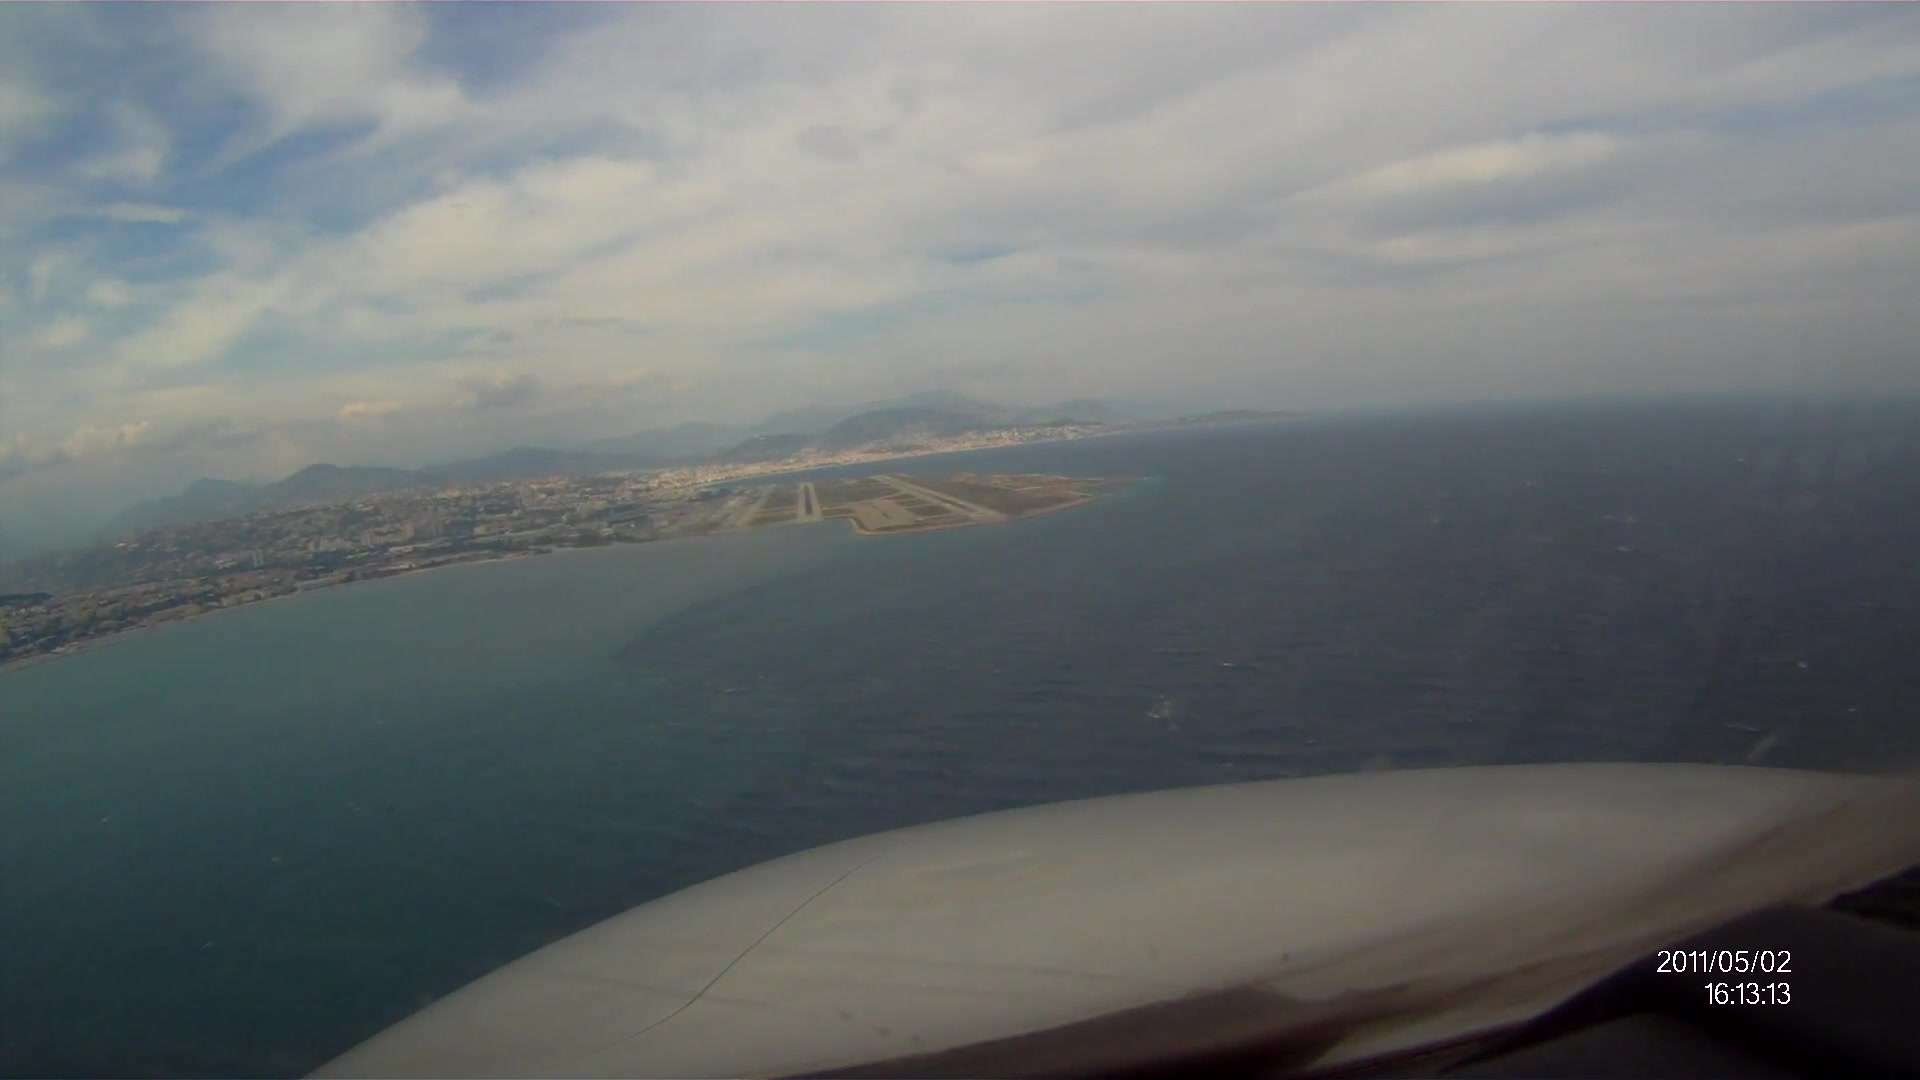runway: (866, 473, 1015, 522), (793, 481, 823, 526)
